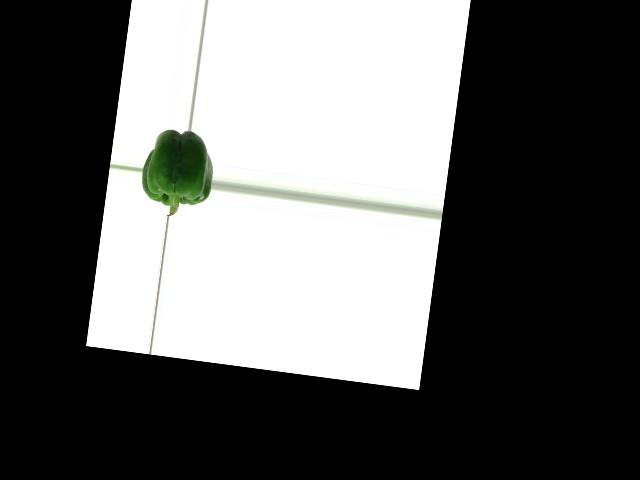bell_pepper: (137, 125, 216, 219)
